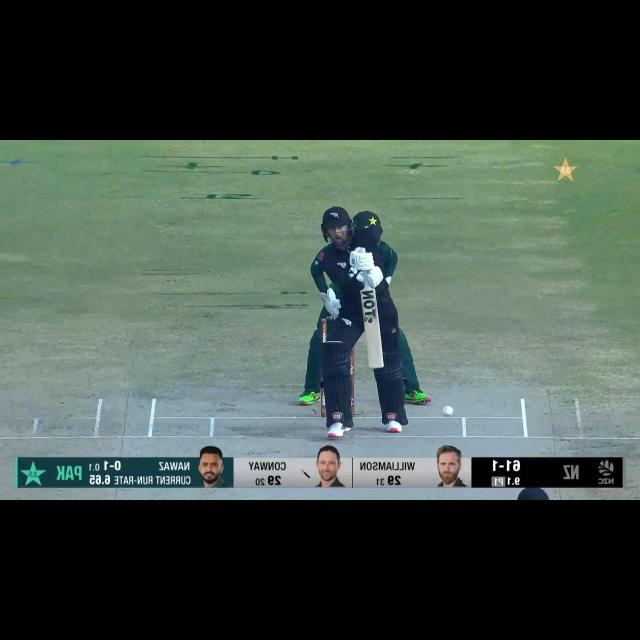bat: (358, 290, 386, 371)
toe: (364, 345, 387, 372)
